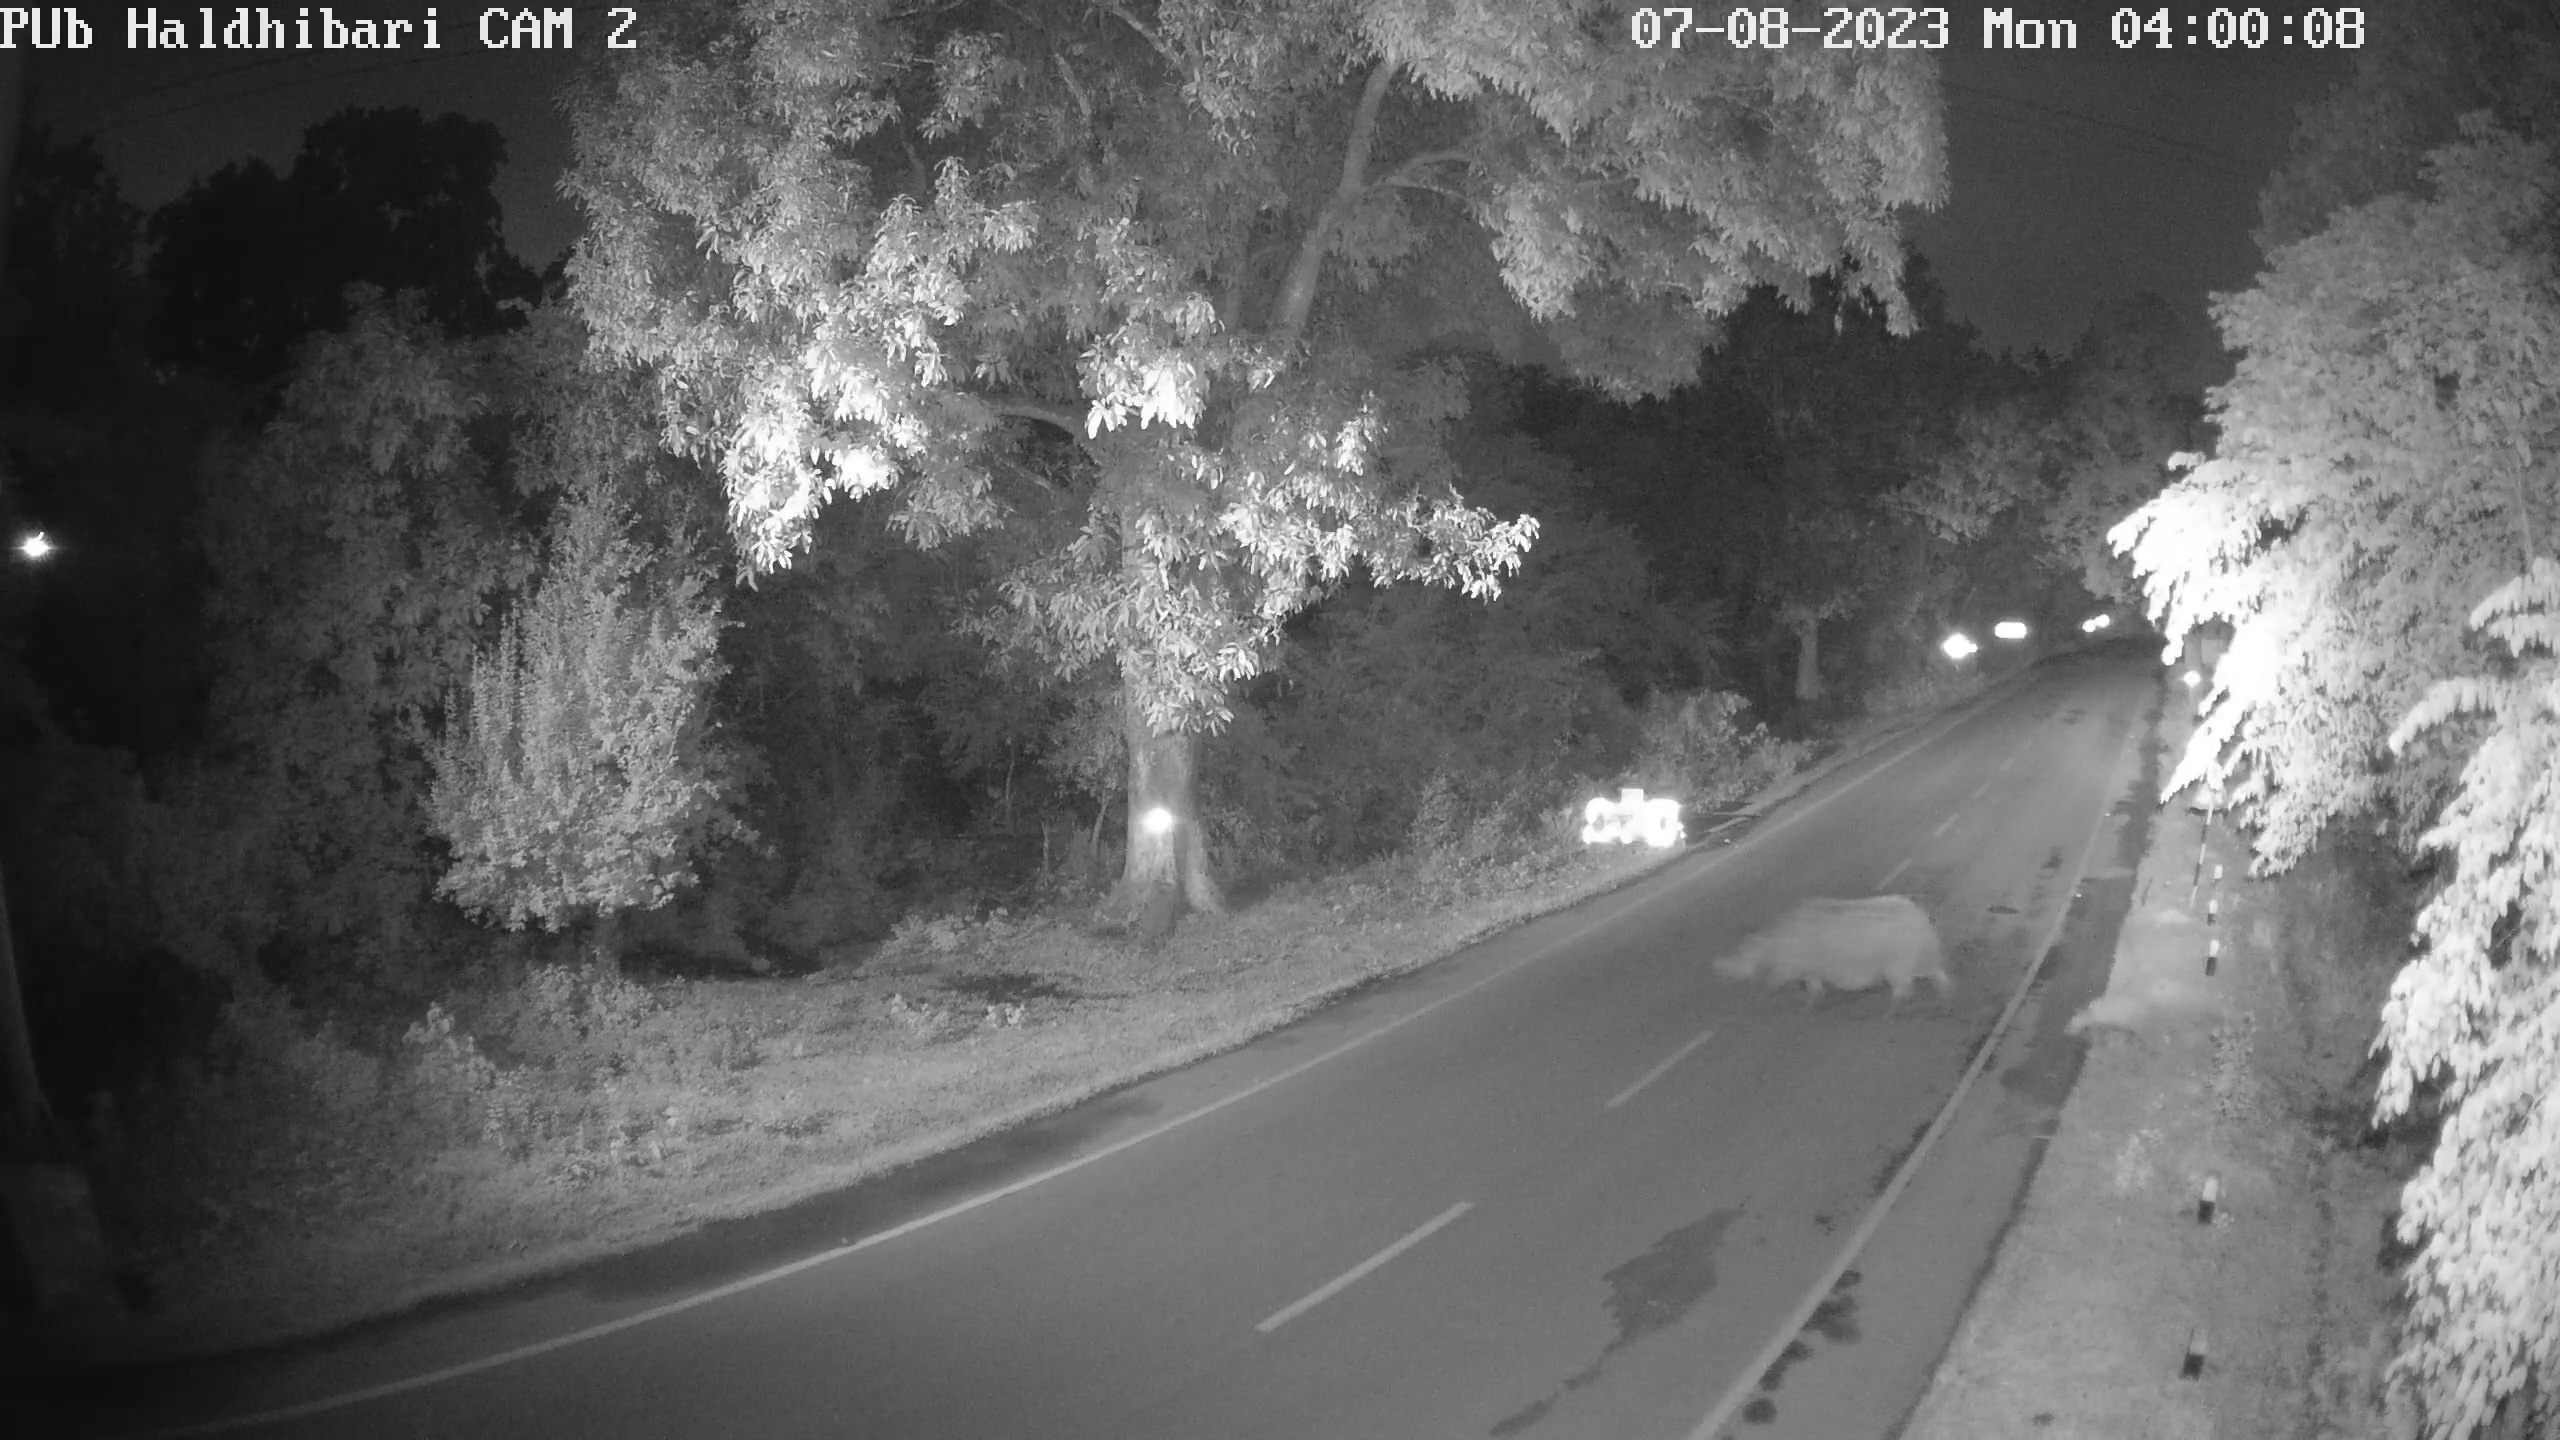rhinos: (1721, 888, 1945, 1011), (2069, 971, 2154, 1048)
